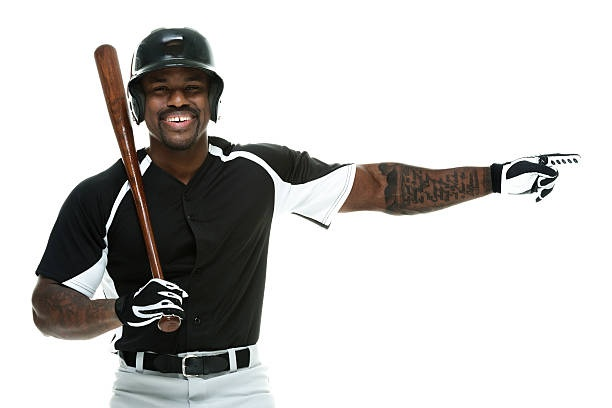bita: (94, 34, 168, 323)
